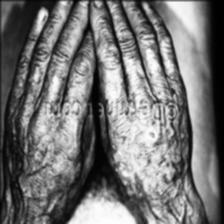Unclassified: (116, 124, 191, 196), (5, 119, 69, 196), (109, 44, 182, 82), (19, 59, 64, 93)
